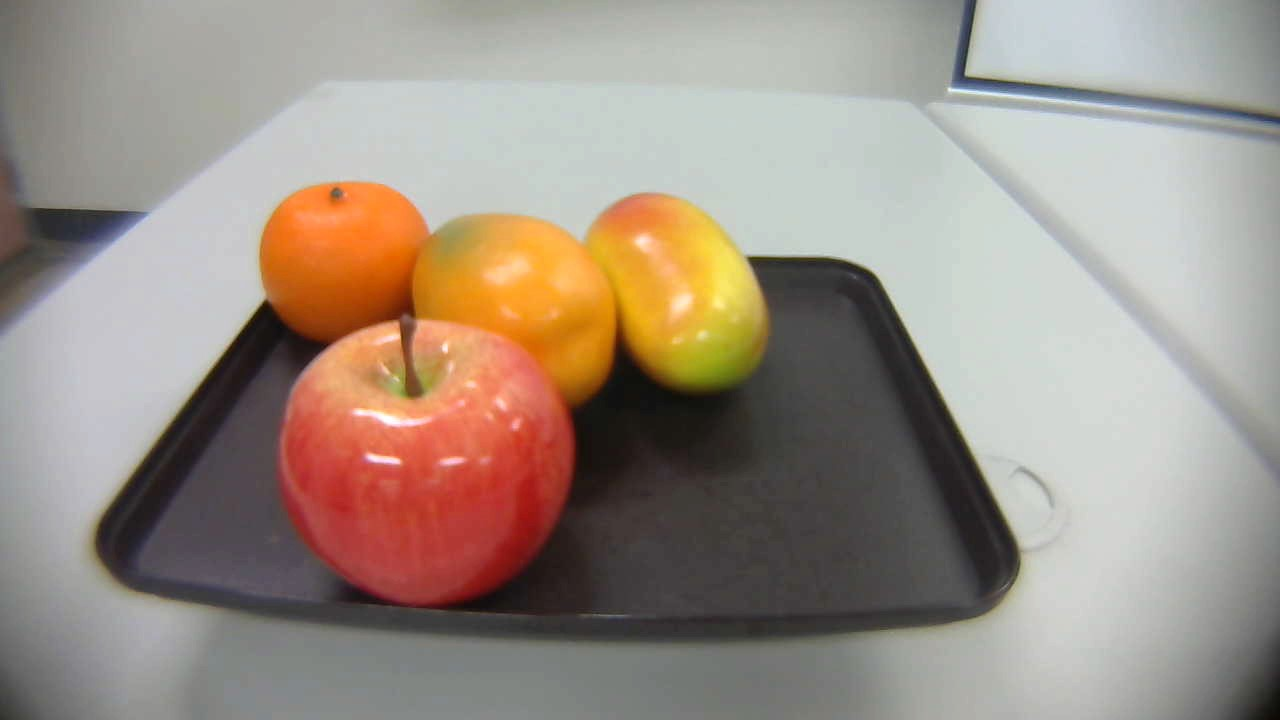orange: (250, 179, 437, 348)
papya: (402, 196, 623, 424)
red apple: (260, 313, 587, 628)
red mango: (582, 173, 787, 406)
